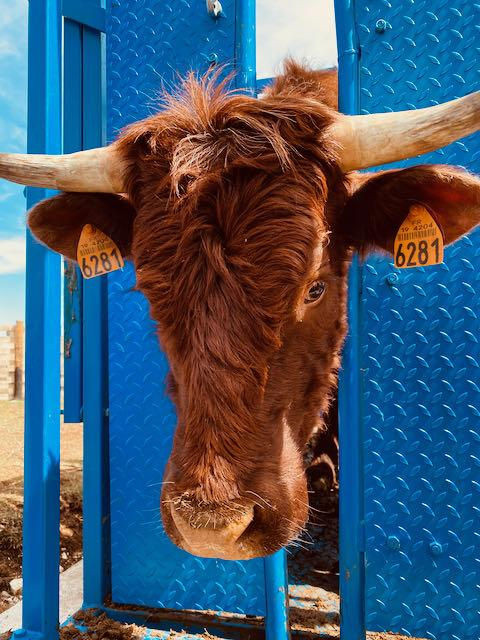muzzles: (151, 490, 303, 572)
